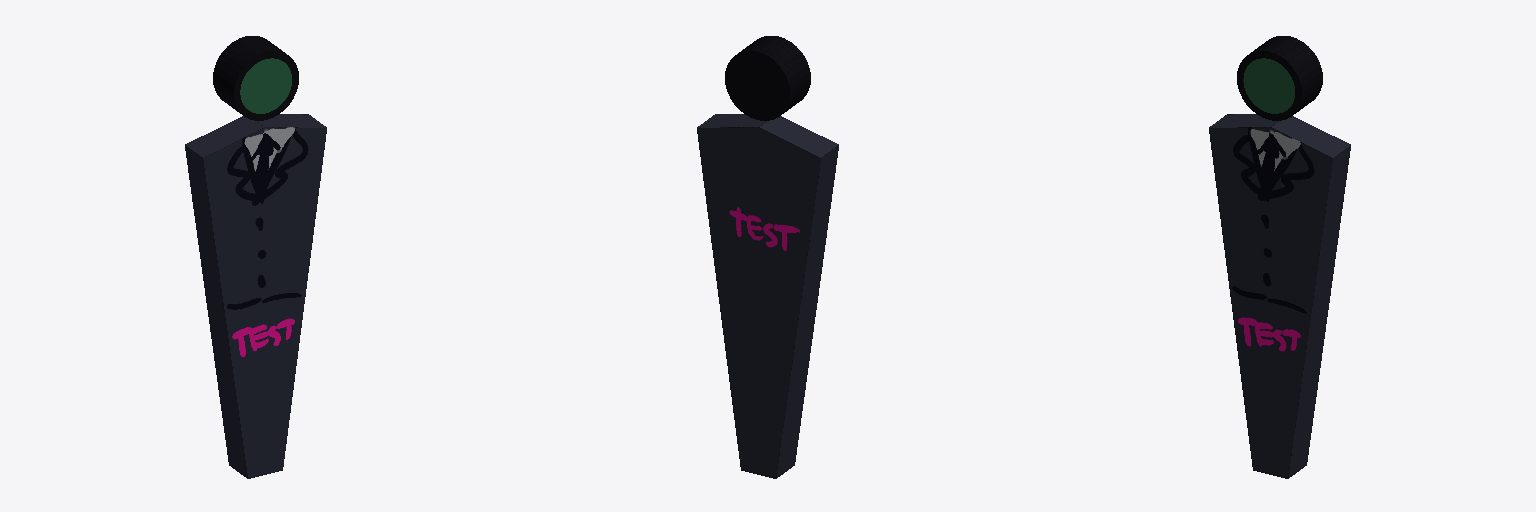
The picture shows the model from 3 angles: view 1: azimuth 30°, elevation 25°; view 2: azimuth 150°, elevation 25°; view 3: azimuth 330°, elevation 25°; orthographic projection.
Visible parts, largest first — view 1: Cube_Cube.001, Cylinder; view 2: Cube_Cube.001, Cylinder; view 3: Cube_Cube.001, Cylinder.
Part boxes in pixels (bbox=[...]): Cube_Cube.001: bbox=[185, 114, 326, 478]; Cylinder: bbox=[213, 36, 298, 120]; Cube_Cube.001: bbox=[697, 114, 838, 478]; Cylinder: bbox=[725, 36, 810, 120]; Cube_Cube.001: bbox=[1209, 114, 1350, 478]; Cylinder: bbox=[1237, 36, 1322, 120].
Size of the model in its own units: 3.81 by 12.38 by 1.11.
2 materials, 2 textured.